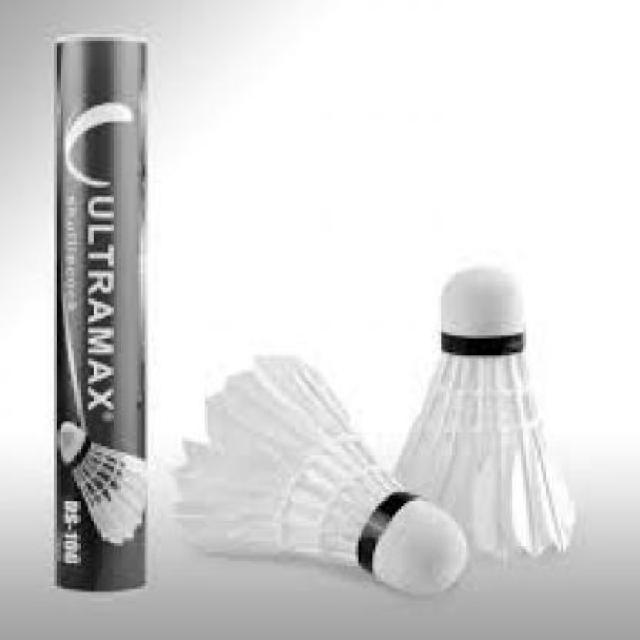Shuttlecock: (168, 351, 472, 597), (388, 262, 578, 560)
